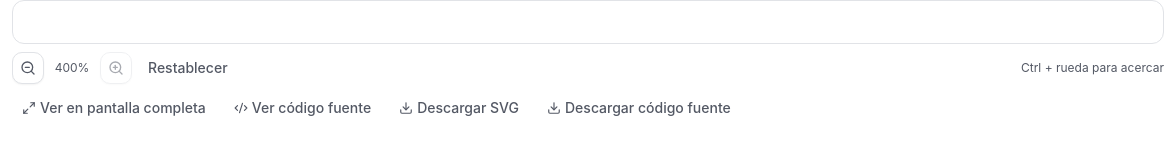
Scenario: DiagramViewer — zoom/pan › zooms in on Ctrl + wheel-up, clamps at 400%, and resets via the Restablecer button
The image size is (1176, 160).
Expected: the text "400%" is shown, [55,60,89,75]
Click the button "Restablecer" at [188, 68], box [136,52,240,84]
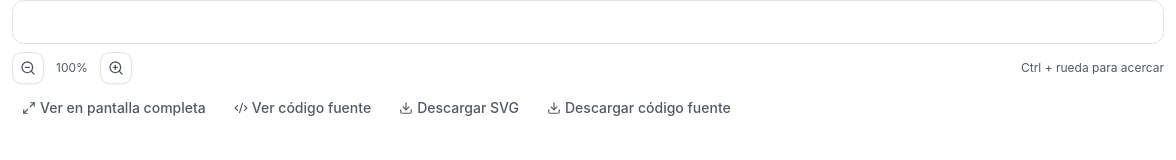
Now the text "100%" is shown, box [56,60,88,75]
